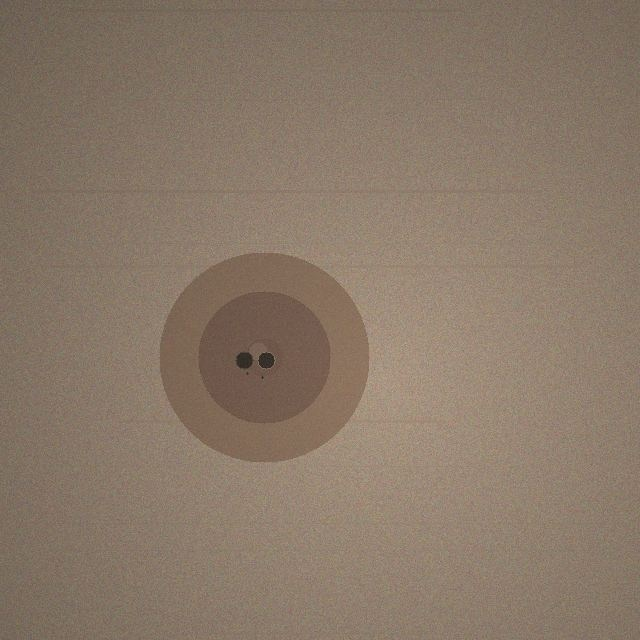shrinkage: (159, 252, 369, 462)
